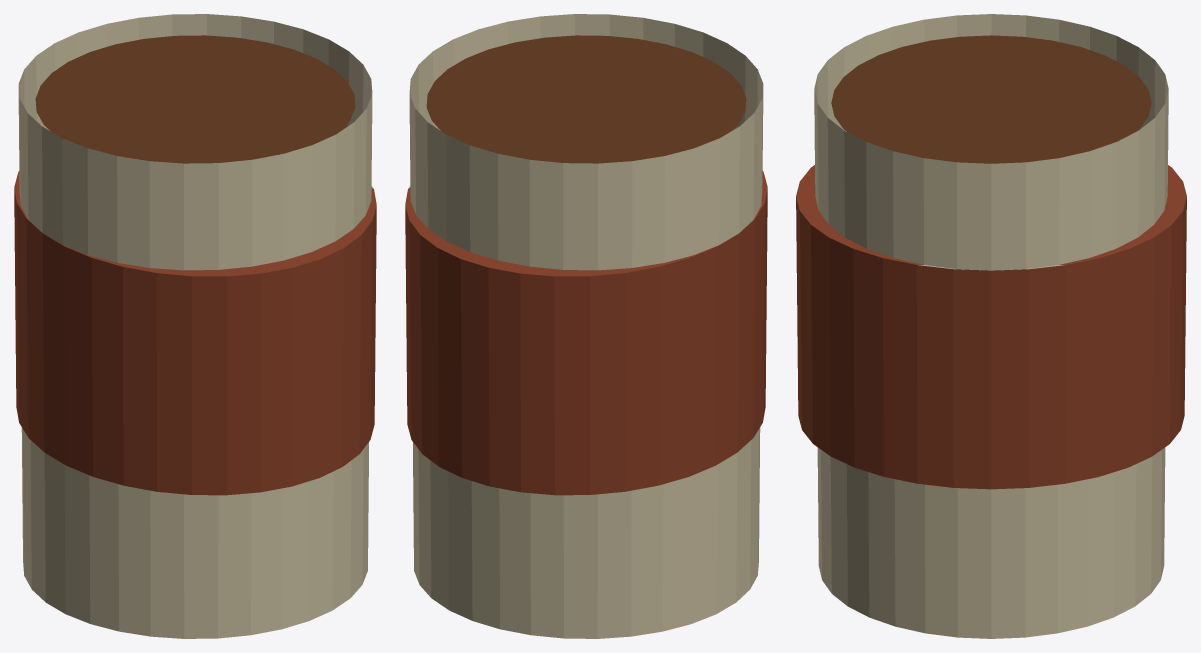
Rendered from smallcoffeecup.dae.
3 renders of one model, left to right at view 1: azimuth 30°, elevation 25°; view 2: azimuth 150°, elevation 25°; view 3: azimuth 270°, elevation 25°, orthographic.
Parts seen in each view (by area): view 1: Cylinder; view 2: Cylinder; view 3: Cylinder.
Part boxes in pixels (x1,y1,x2,y2): Cylinder: (14, 14, 376, 638); Cylinder: (405, 14, 767, 638); Cylinder: (796, 14, 1186, 638).
Bounding box in the file's own units: 0.5889 × 0.6495 × 0.8745.
